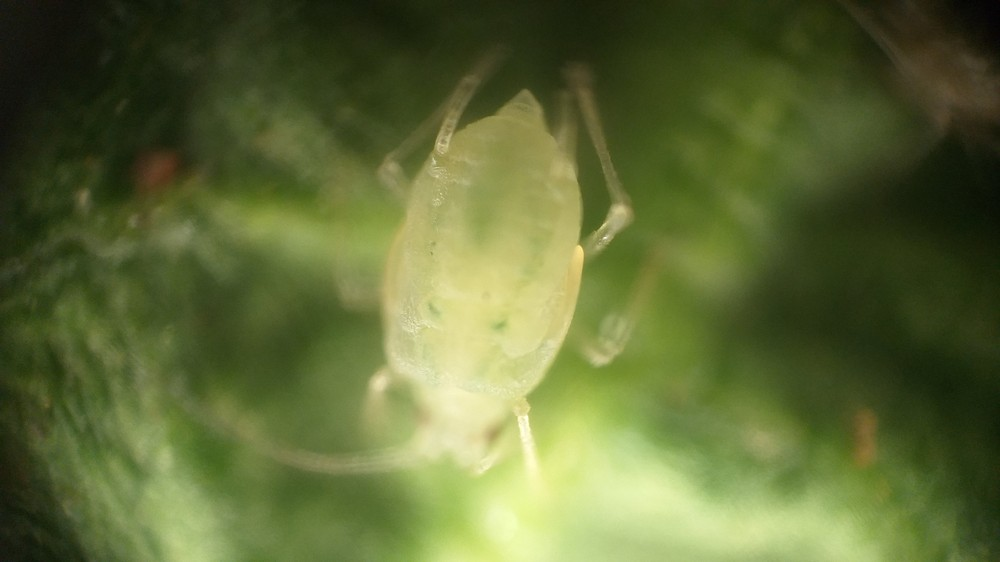Pulgon: (254, 42, 671, 552)
